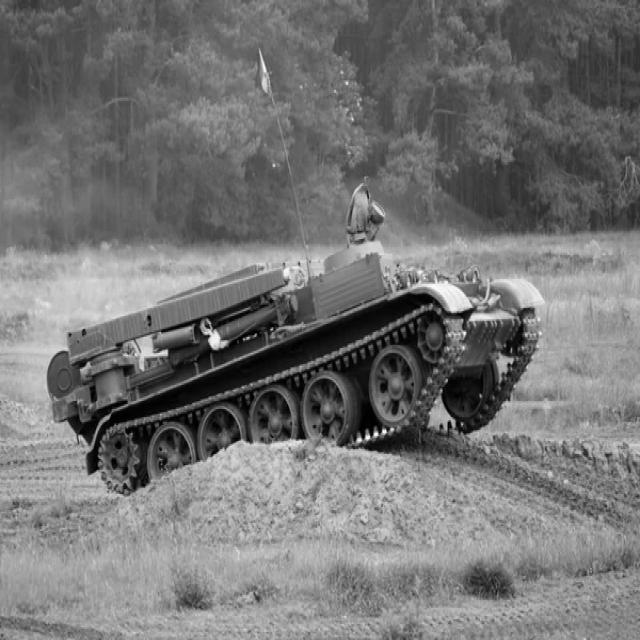Tank: (48, 211, 561, 519)
